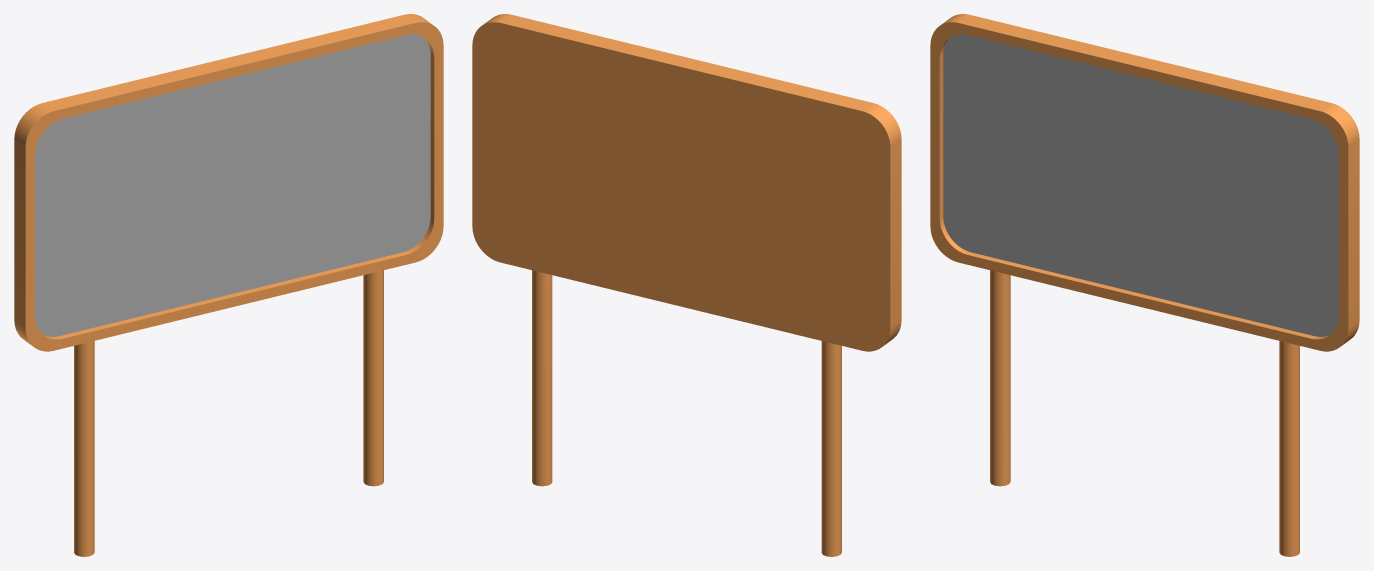
Rendered from Scoreboard B.fbx.
3 renders of one model, left to right at view 1: azimuth 30°, elevation 25°; view 2: azimuth 150°, elevation 25°; view 3: azimuth 330°, elevation 25°, orthographic.
Visible parts, largest first — view 1: Scoreboard B; view 2: Scoreboard B; view 3: Scoreboard B.
Boxes of the visible parts, bbox=[...] form: Scoreboard B: bbox=[14, 14, 443, 556]; Scoreboard B: bbox=[472, 14, 901, 556]; Scoreboard B: bbox=[930, 14, 1359, 556].
Bounding box in the file's own units: 665 × 691 × 30.86.
